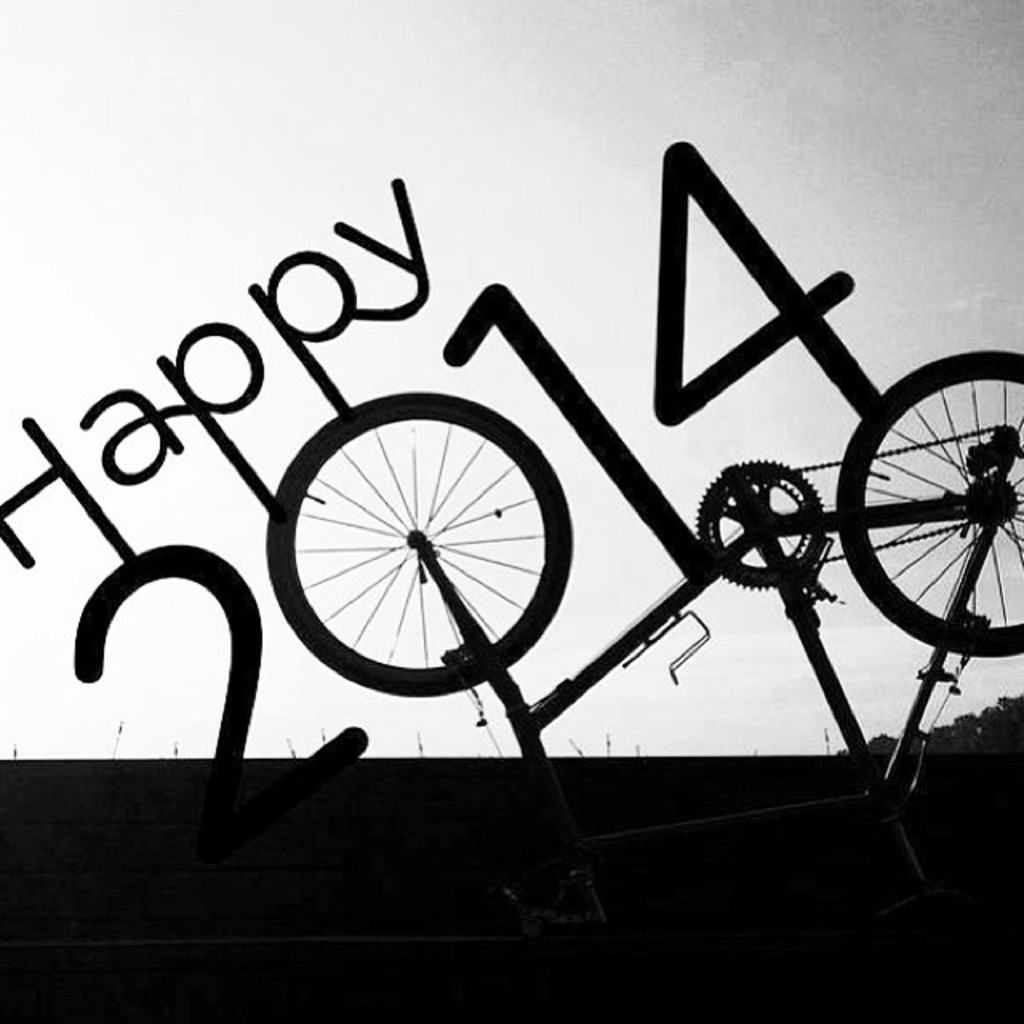bicycle: (262, 349, 1022, 963)
